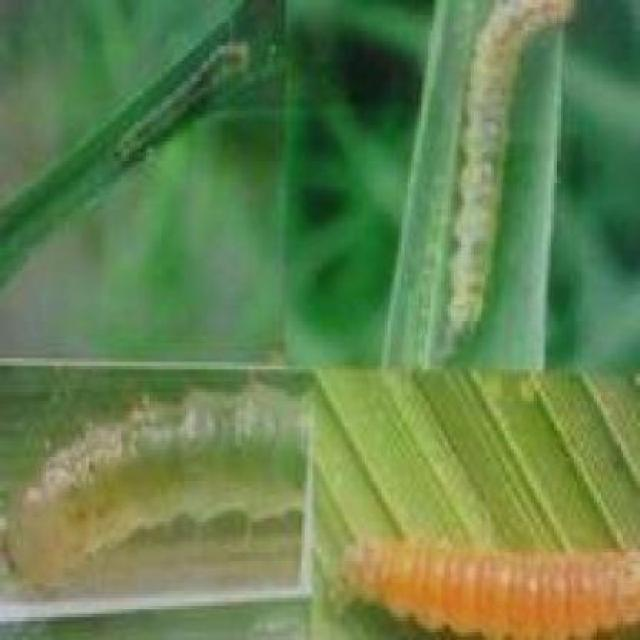leaf-folder: (2, 376, 296, 604), (404, 0, 545, 369), (338, 491, 640, 640), (99, 29, 266, 188)
